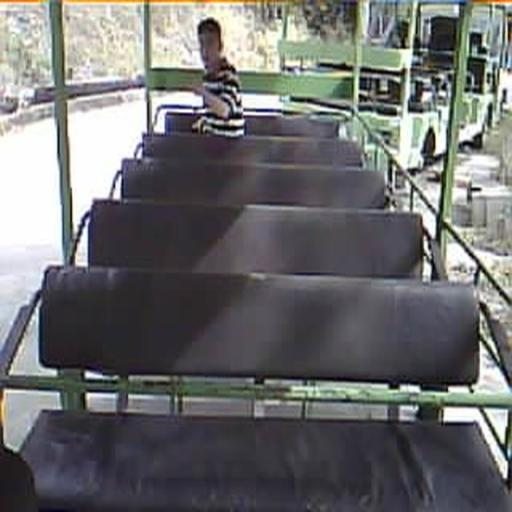persona: (186, 17, 246, 138)
